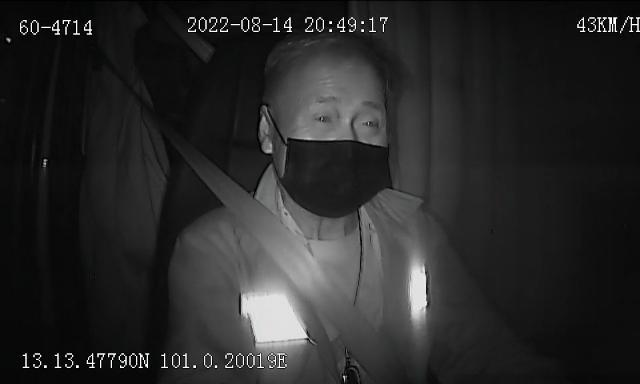SafeDriving: (352, 106, 388, 136), (306, 105, 341, 131)
Seatbelt: (180, 146, 394, 378)
